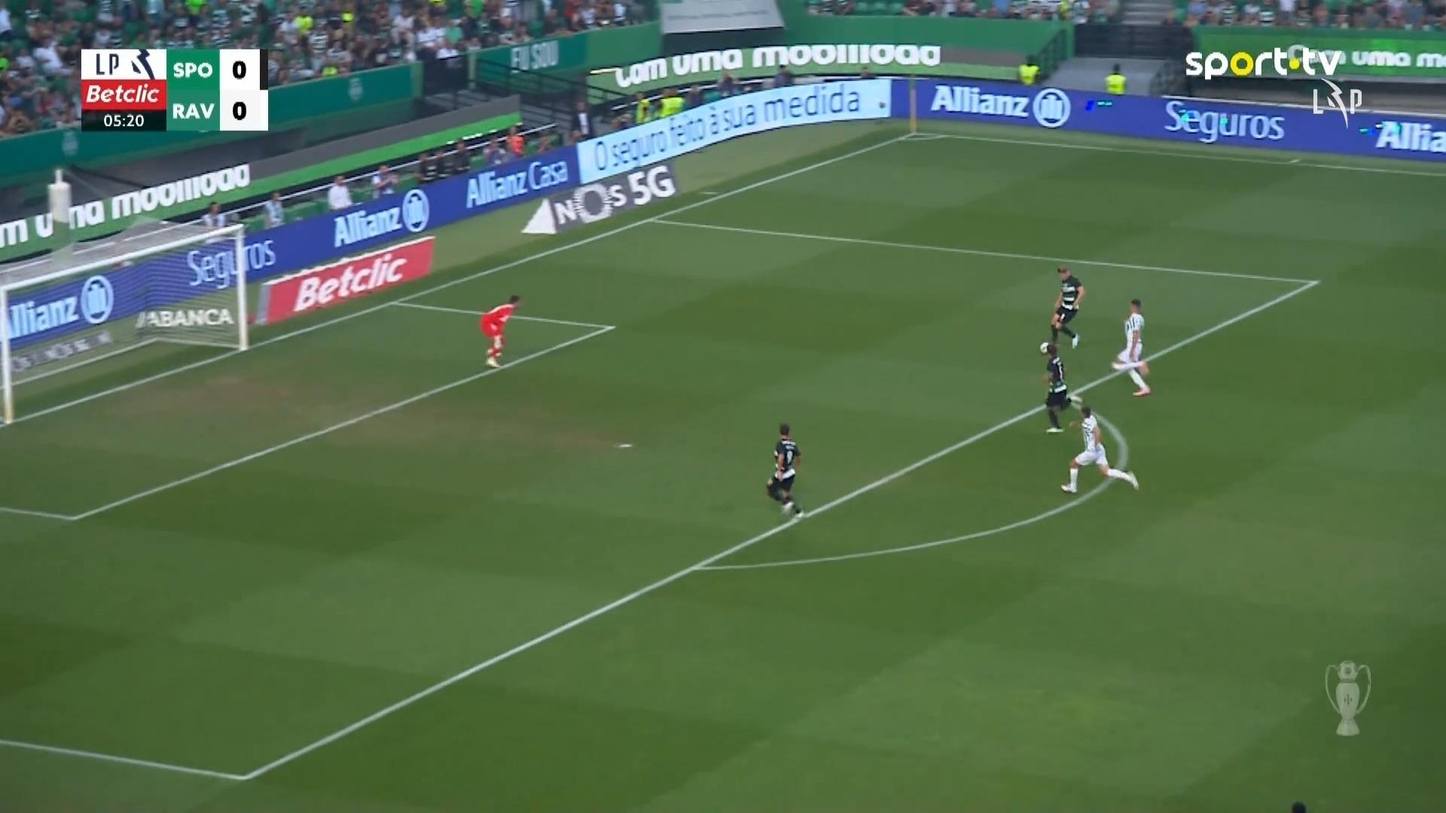ball: (1040, 338, 1054, 354)
goalkeeper: (478, 294, 520, 367)
player: (1060, 403, 1139, 494), (1111, 297, 1152, 396), (764, 422, 805, 519), (1039, 340, 1072, 433), (1048, 264, 1084, 349)
